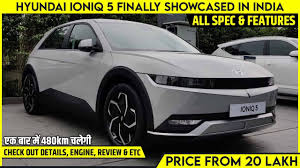Honda Ioniq: (14, 16, 283, 155)
